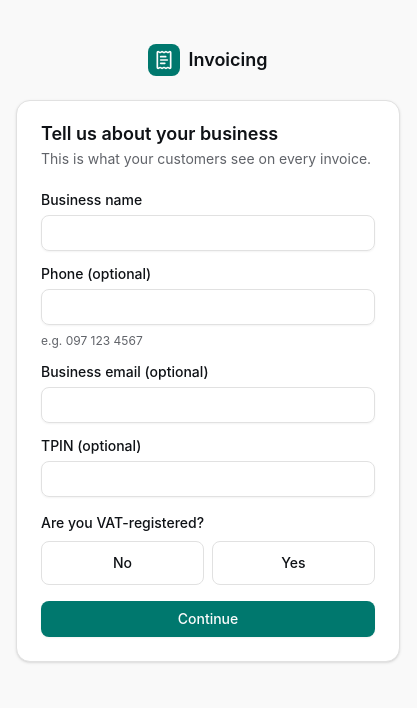
Scenario: OnboardingPage › requires a name and a VAT answer
Click the button "Continue" at (208, 619), box [41, 601, 375, 637]
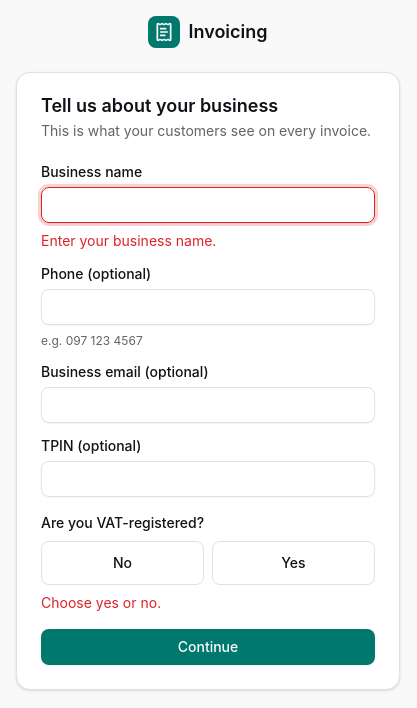
Result: the text "Enter your business name." is shown at [41, 232, 216, 249]
Result: the text "Choose yes or no." is shown at [41, 594, 161, 611]
